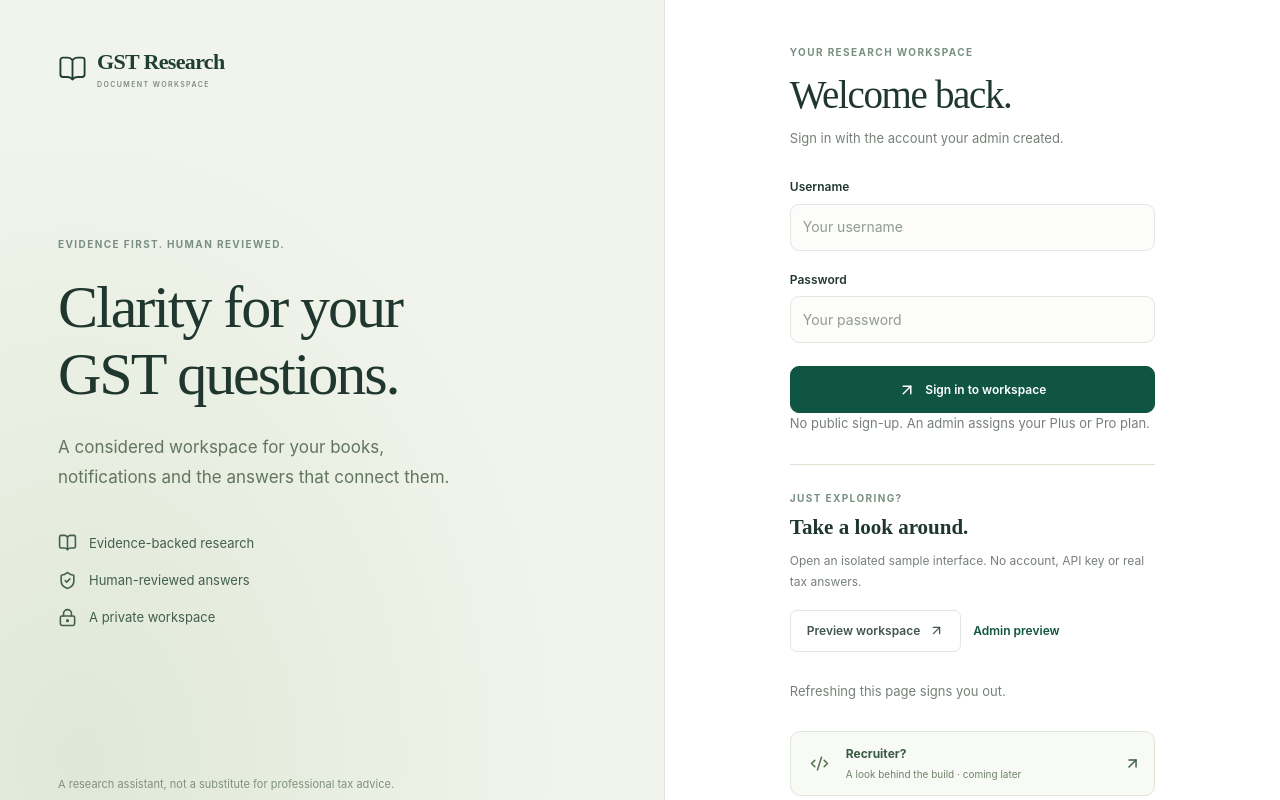
Admin operations › protects the existing human answer draft when navigating away
Click the button "Admin preview": (1016, 631) [973, 618, 1060, 644]
(page scrolled)
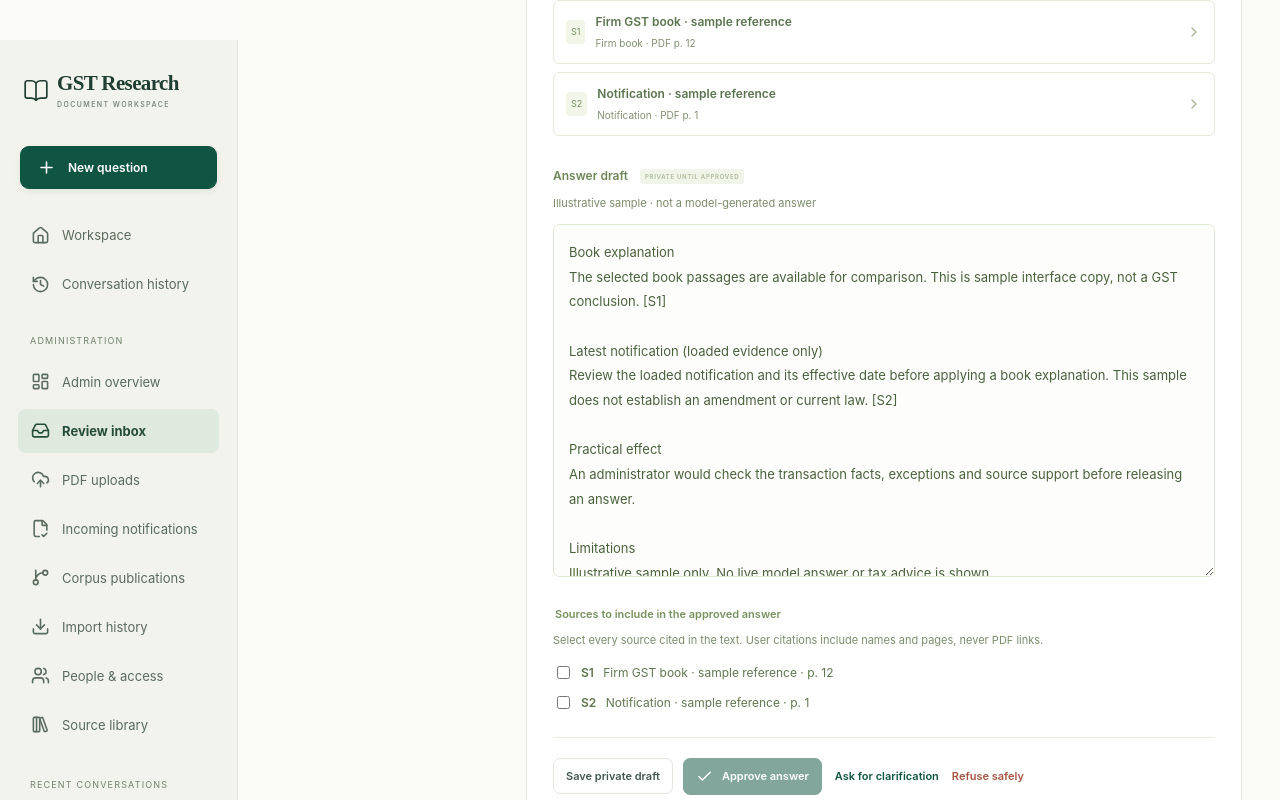
Expected: the text box labelled "Answer draft PRIVATE UNTIL APPROVED" is shown
In the text box labelled "Answer draft PRIVATE UNTIL APPROVED": (884, 400) [553, 224, 1215, 577], type " Private edit"
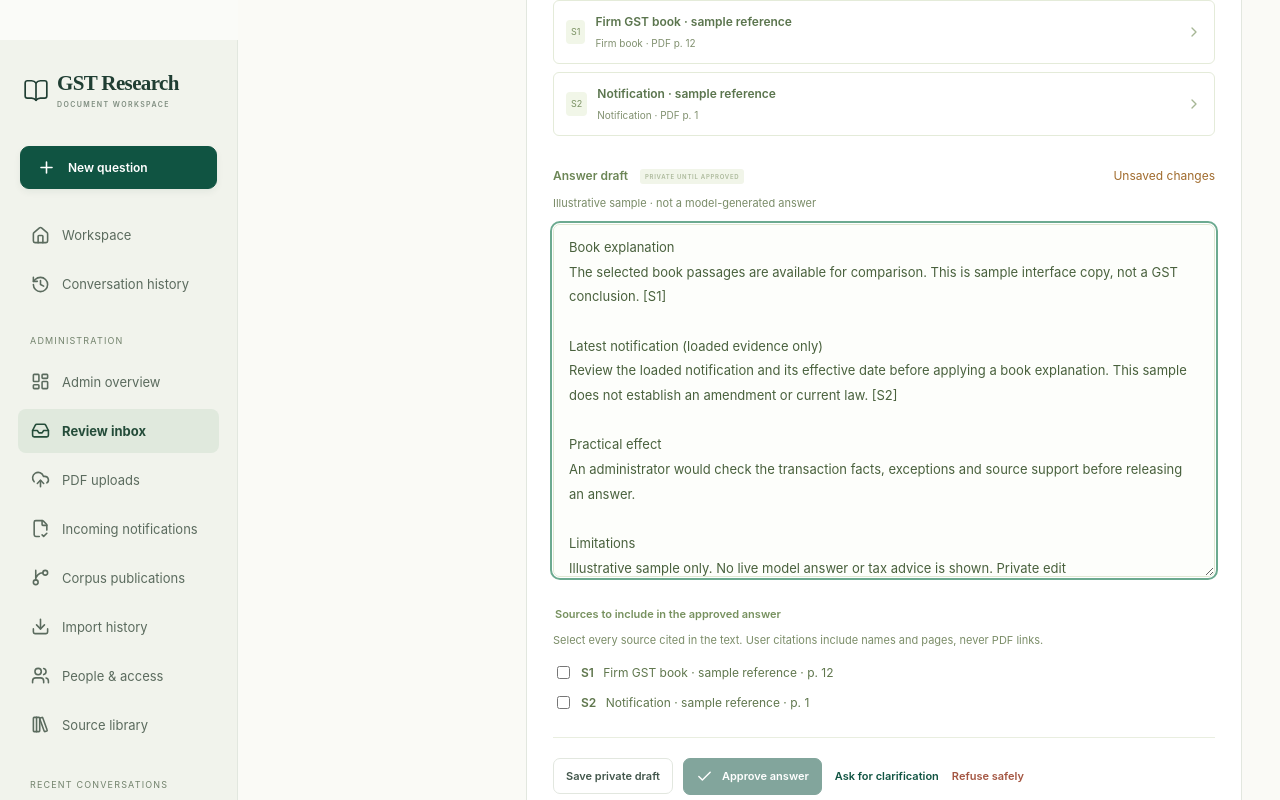
Click the button "Admin overview": (118, 382) [18, 360, 219, 404]
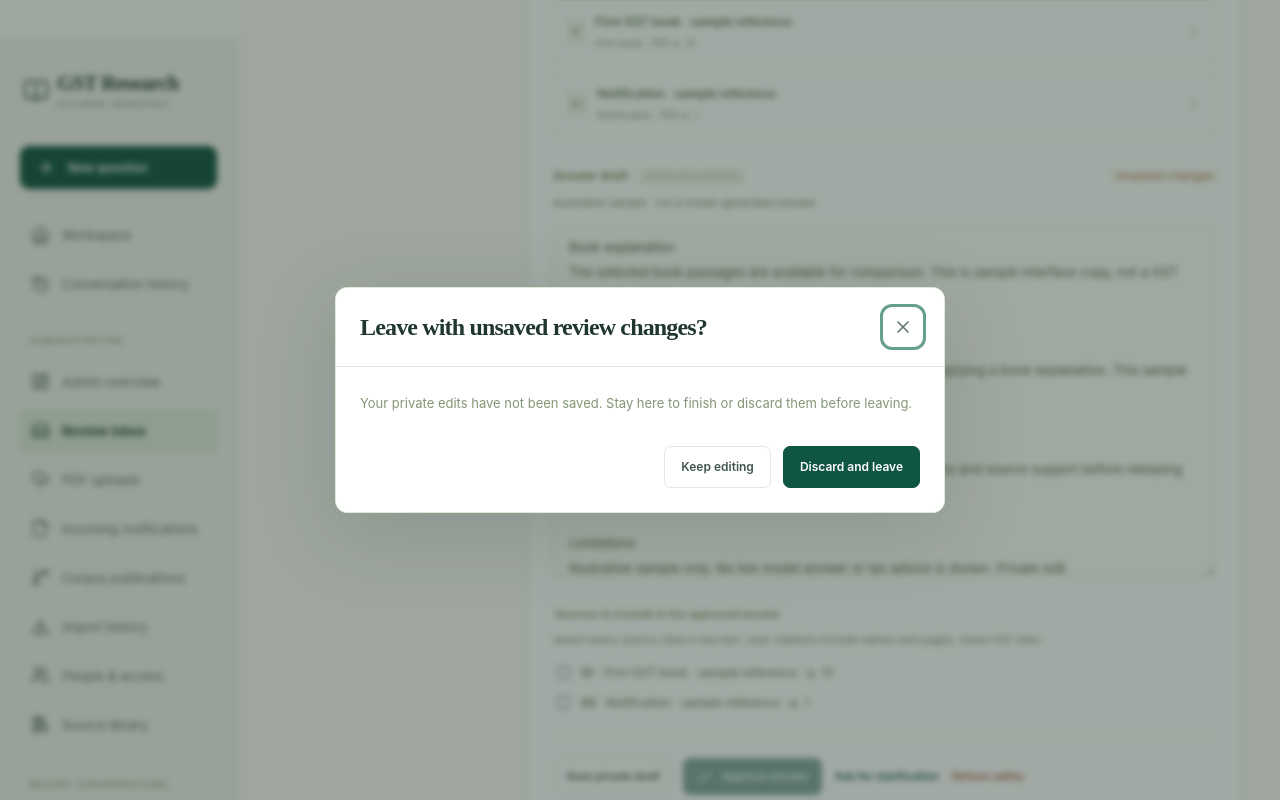
Expected: the dialog "Leave with unsaved review changes?" is shown, [335, 287, 945, 513]
